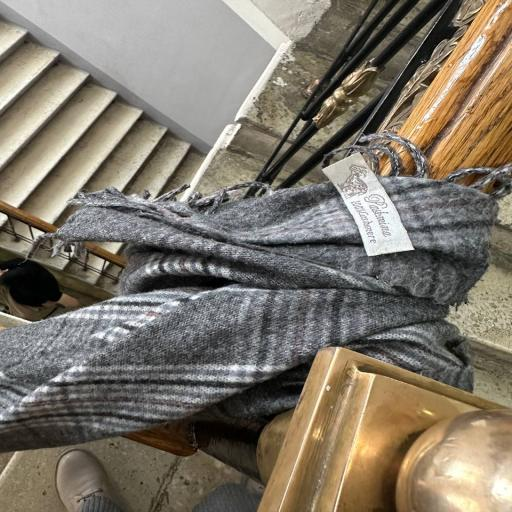sofa: (0, 21, 203, 225), (193, 14, 340, 192)
